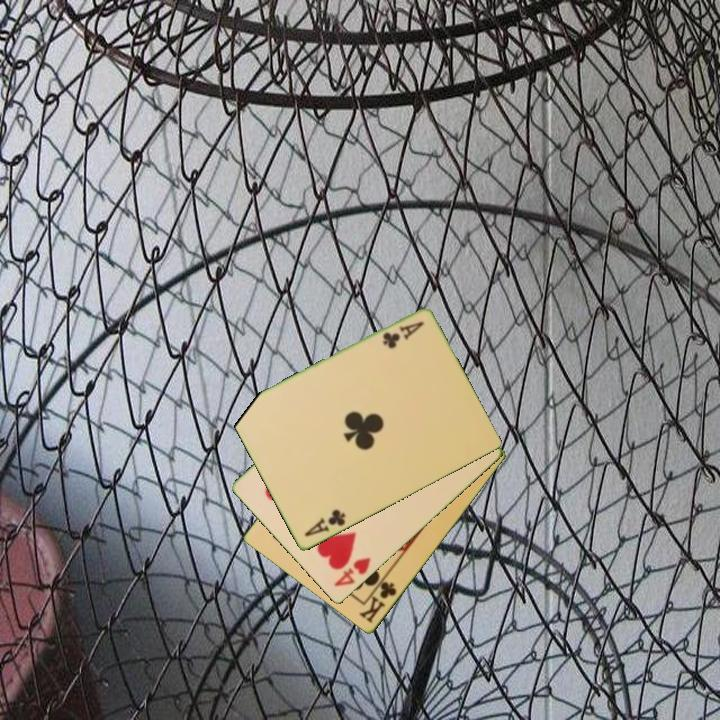4h: (330, 554, 374, 590)
Ac: (379, 318, 427, 352), (301, 506, 348, 540)
Kc: (356, 572, 400, 626)
